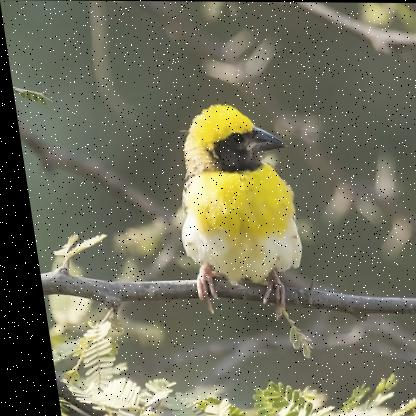Burung: (160, 104, 303, 320)
